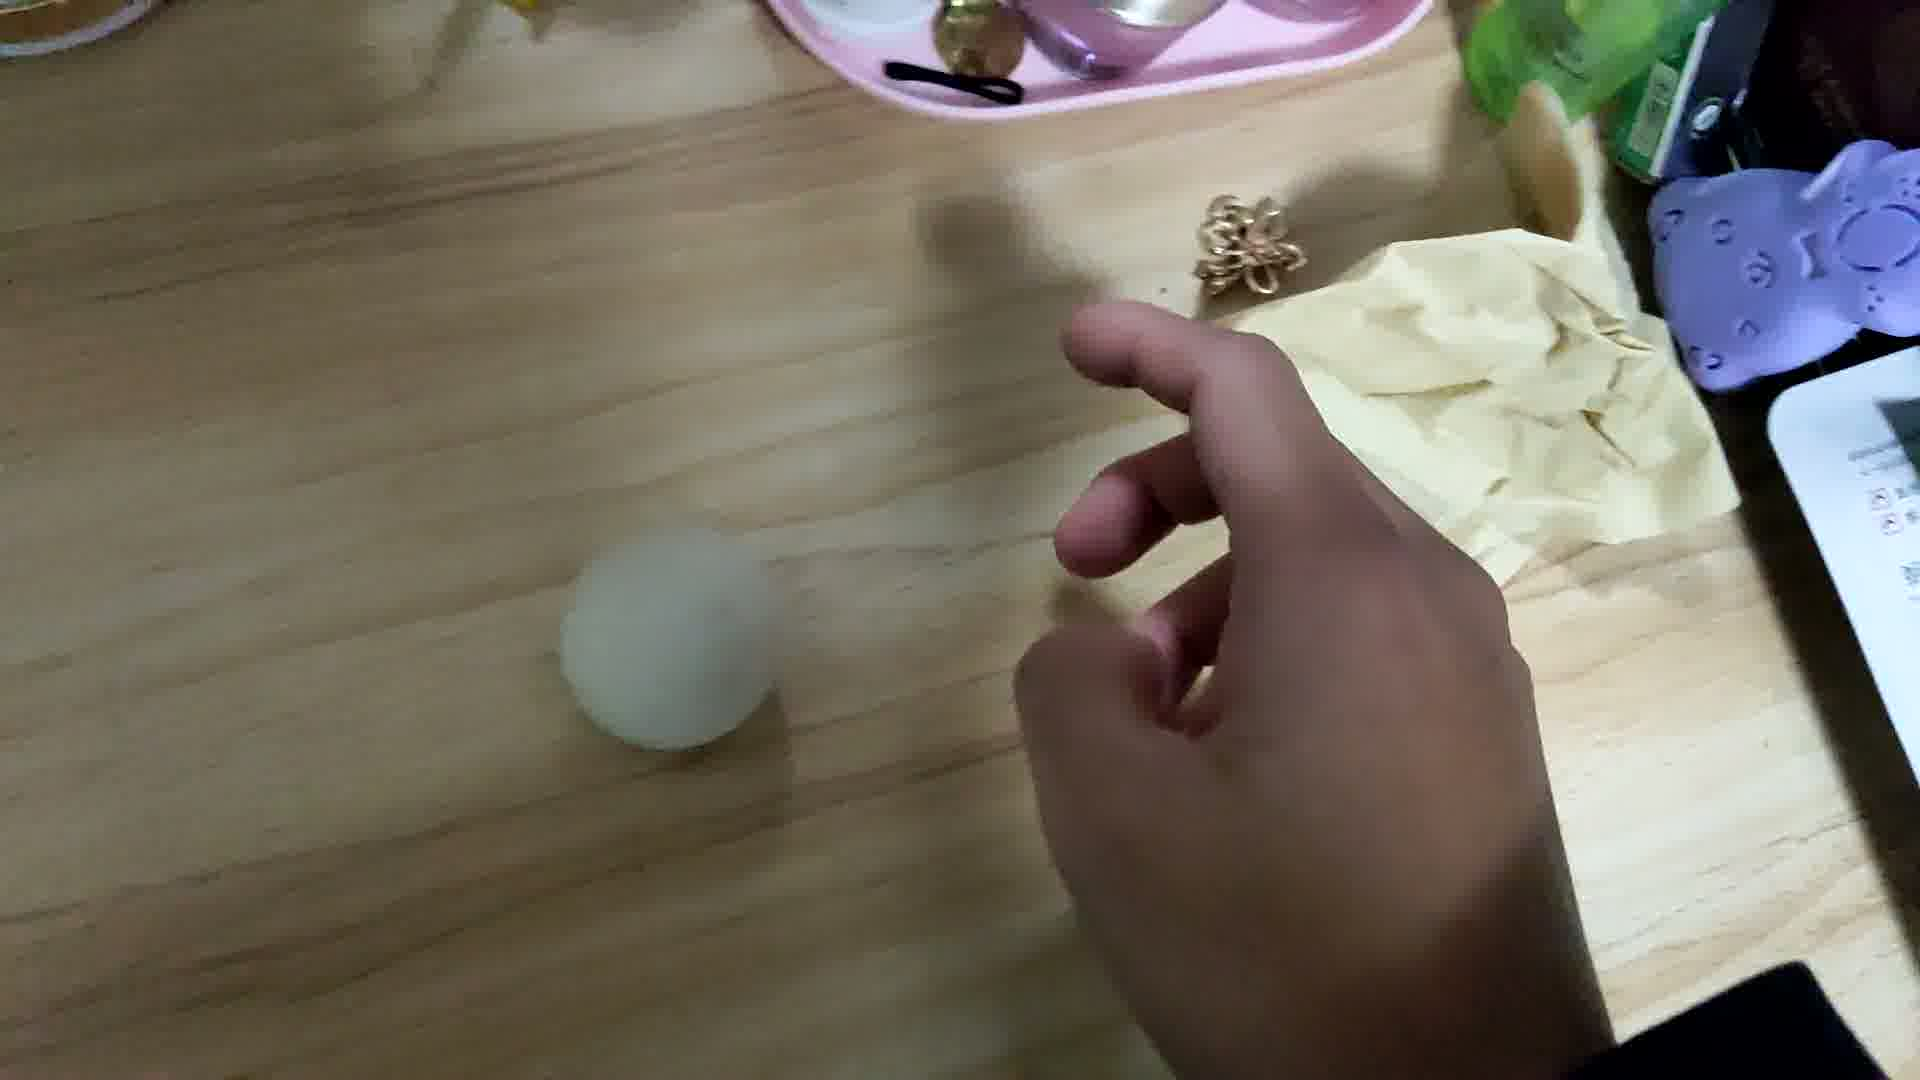Ball: (556, 524, 770, 750)
